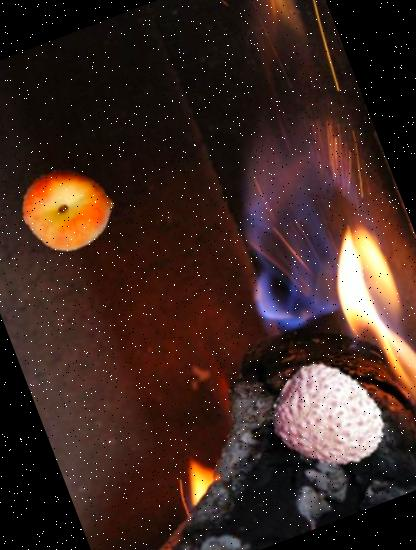Lychee: (257, 344, 406, 494)
Peach: (10, 151, 125, 266)
